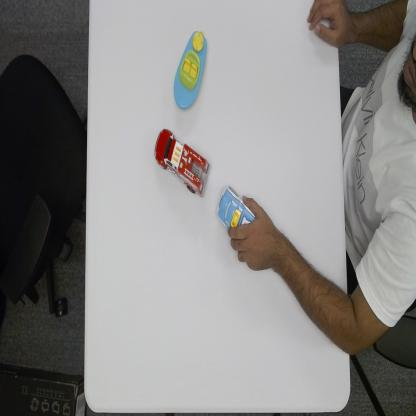Arm: (273, 241, 345, 348)
Boat: (172, 28, 208, 110)
Car: (215, 184, 256, 229)
Firetruck: (154, 126, 210, 197)
Hand: (227, 195, 274, 274), (306, 0, 337, 46)
